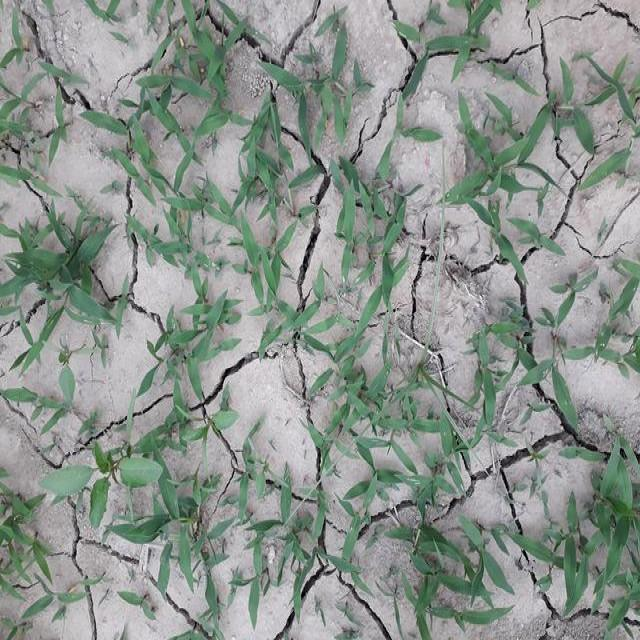weed: (317, 320, 640, 640), (83, 24, 428, 260), (38, 373, 236, 619)
